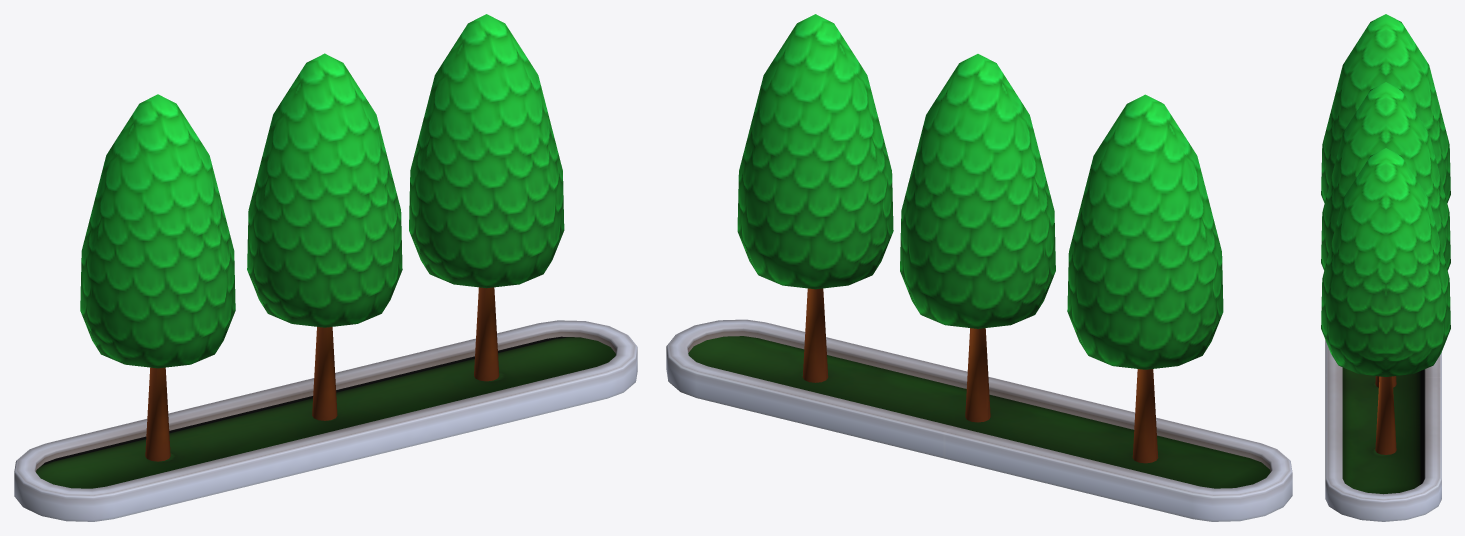
File: TreeF.FBX
3 renders of one model, left to right at view 1: azimuth 30°, elevation 25°; view 2: azimuth 150°, elevation 25°; view 3: azimuth 270°, elevation 25°, orthographic. The views are drawn at different scales.
Parts seen in each view (by area): view 1: Tree_01; view 2: Tree_01; view 3: Tree_01.
Part boxes in pixels (left/top/right/bottom): Tree_01: left=14, top=14, right=637, bottom=521; Tree_01: left=666, top=14, right=1292, bottom=521; Tree_01: left=1321, top=14, right=1450, bottom=521.
Size of the model in its own units: 96.57 by 57.7 by 21.45.
